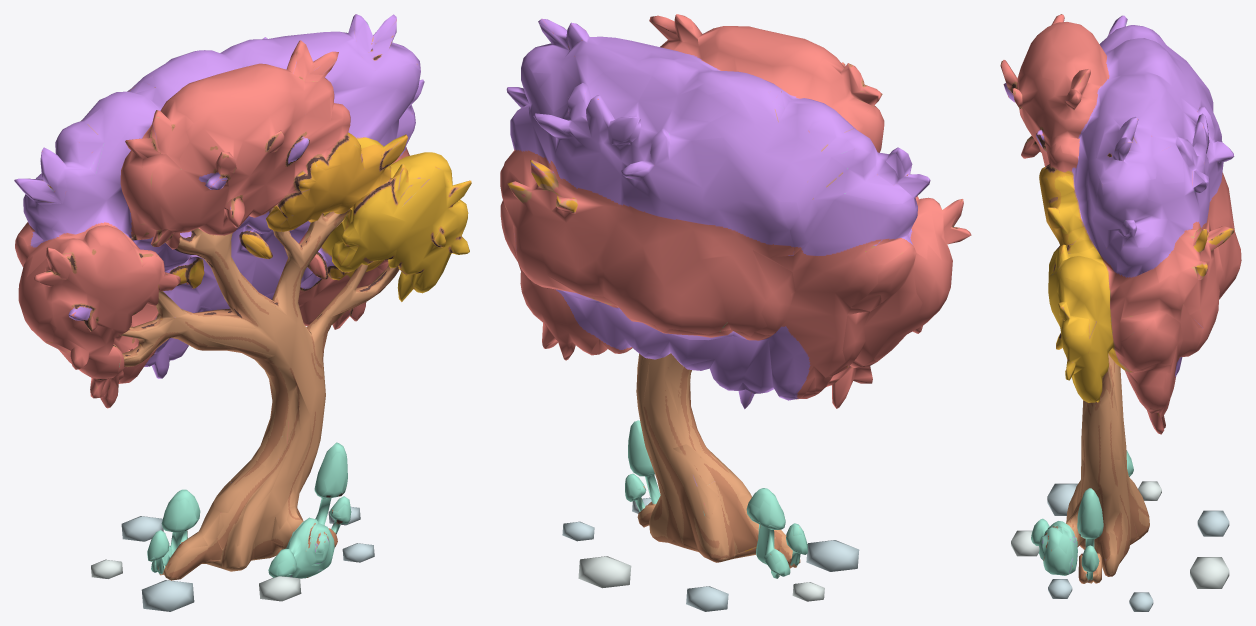
File: lagoon_tree_ancient_oak.glb
3 views of the same model, side by side, from view 1: azimuth 30°, elevation 25°; view 2: azimuth 150°, elevation 25°; view 3: azimuth 270°, elevation 25° (orthographic). The views are drawn at different scales.
Parts seen in each view (by area): view 1: lagoon_tree_ancient_oak.001; view 2: lagoon_tree_ancient_oak.001; view 3: lagoon_tree_ancient_oak.001.
Boxes of the visible parts, bbox=[...] form: lagoon_tree_ancient_oak.001: bbox=[14, 14, 471, 611]; lagoon_tree_ancient_oak.001: bbox=[500, 14, 971, 611]; lagoon_tree_ancient_oak.001: bbox=[1000, 14, 1241, 611].
Bounding box in the file's own units: 7.68 × 8.83 × 3.75.
Materials: 3 (1 with a texture image).
